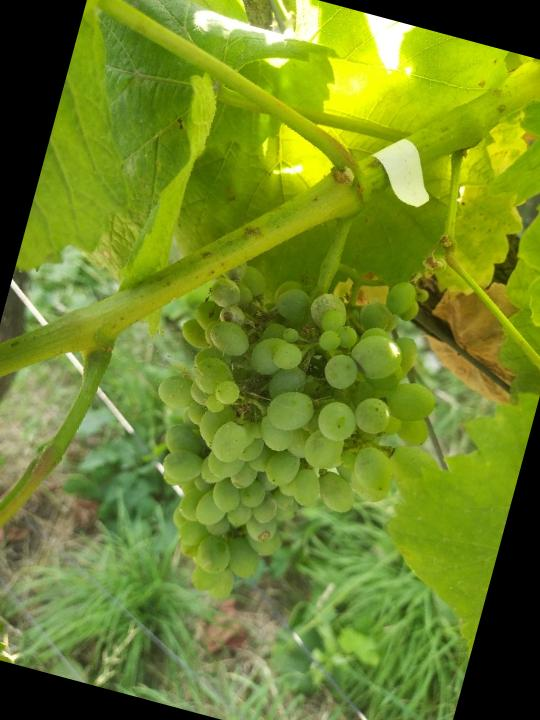grape: (101, 223, 485, 654)
